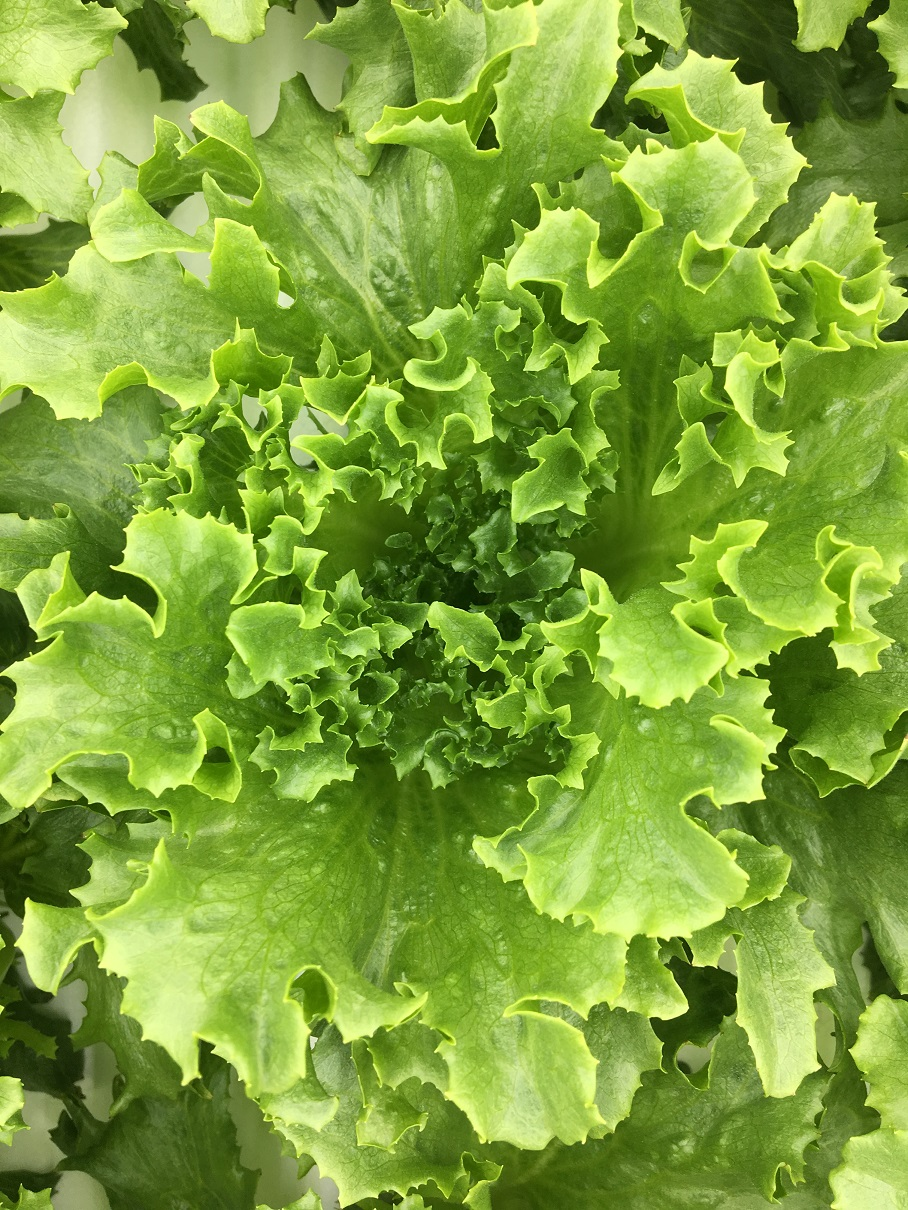tipburn: (173, 107, 204, 137)
